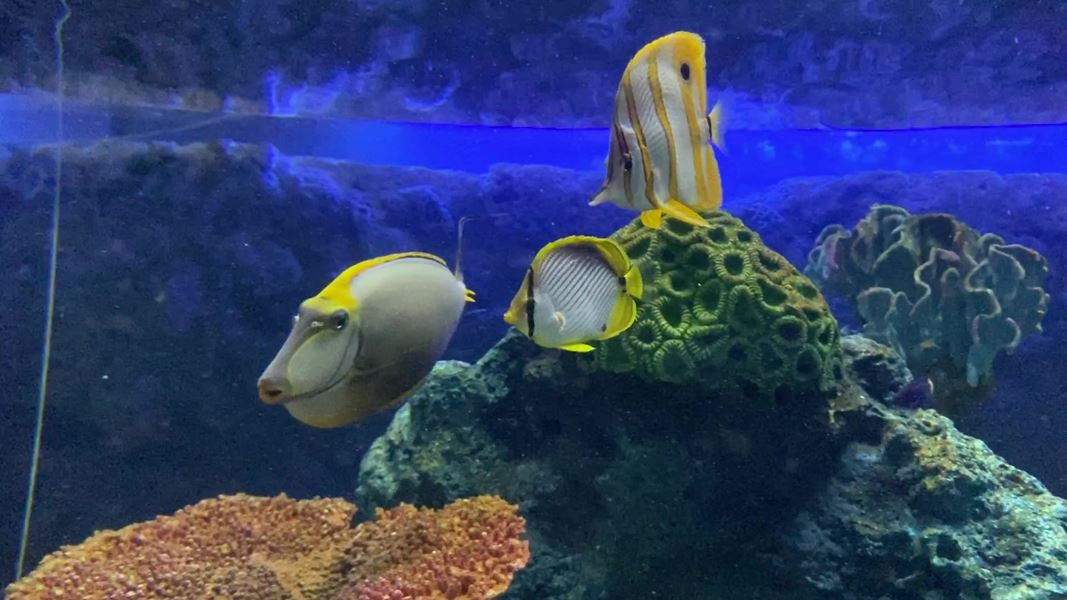Black-backed butterflyfish: (497, 229, 668, 359)
